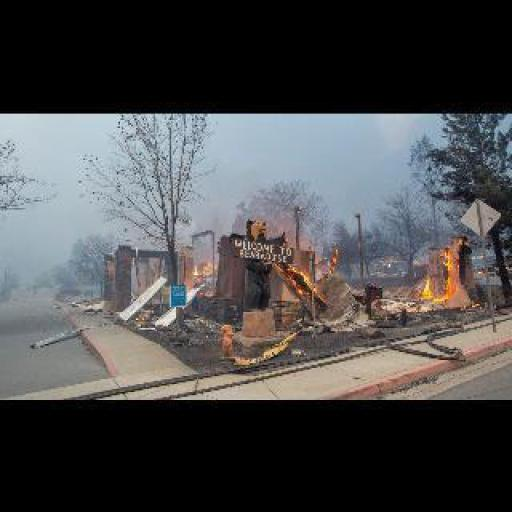smoke: (418, 236, 466, 314), (274, 254, 332, 309)
